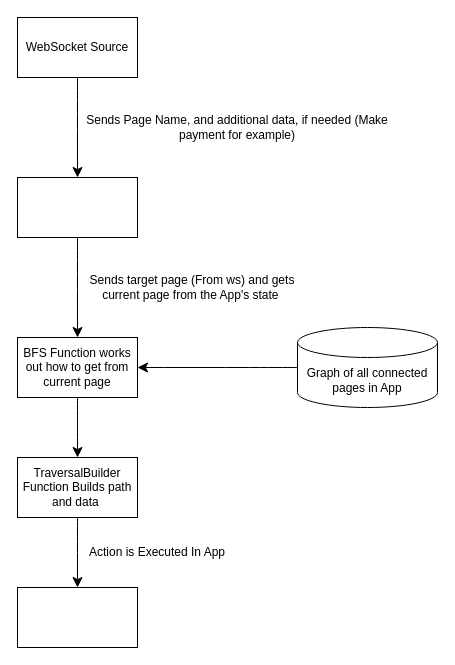
This 455x665 diagram has some shape labels left out. Each missing label, with the centre of its shape:
"Mobile Banking App" goes at pixel 77 617.
"WebSocket Listener" goes at pixel 77 207.
